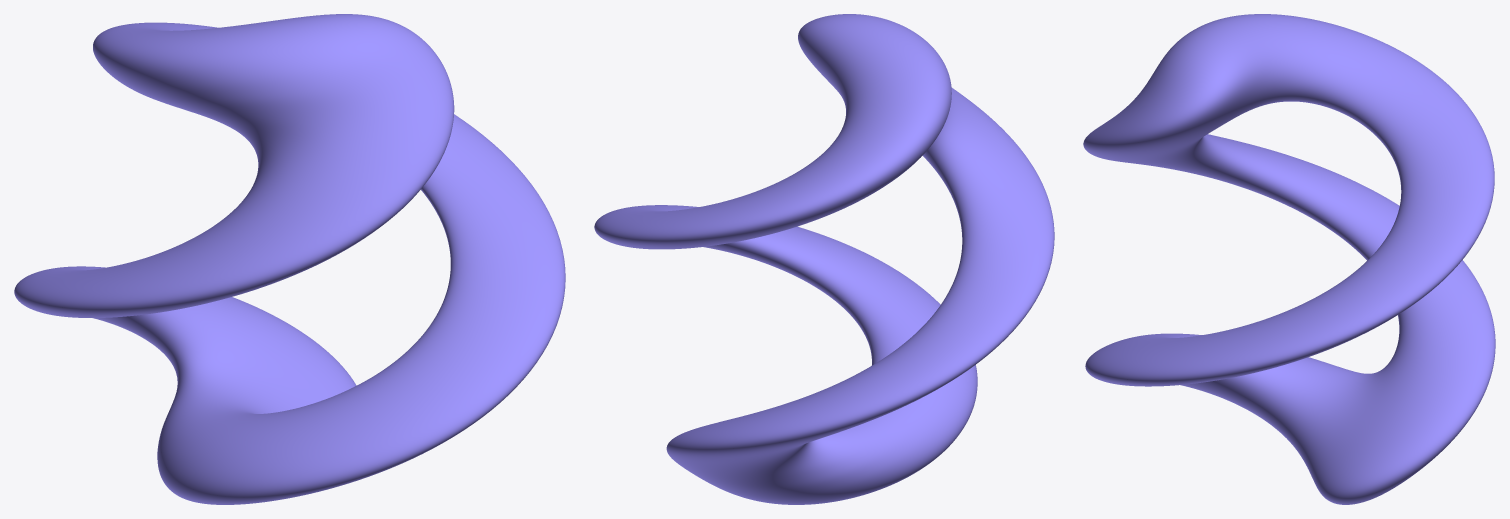
File: twist.gltf
The picture shows the model from 3 angles, left to right: view 1: azimuth 30°, elevation 25°; view 2: azimuth 150°, elevation 25°; view 3: azimuth 270°, elevation 25°; orthographic projection. The views are drawn at different scales.
Parts seen in each view (by area): view 1: TwistedTorus; view 2: TwistedTorus; view 3: TwistedTorus.
Boxes of the visible parts, box(x1,y1,x2,y2) form: TwistedTorus: box(14, 14, 565, 504); TwistedTorus: box(594, 14, 1054, 504); TwistedTorus: box(1083, 14, 1495, 504).
Size of the model in its own units: 2.41 by 2.47 by 2.13.
